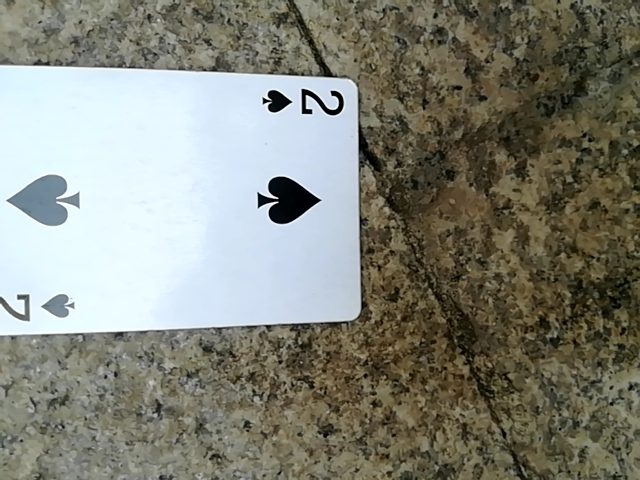ht 2: (0, 51, 359, 336)
